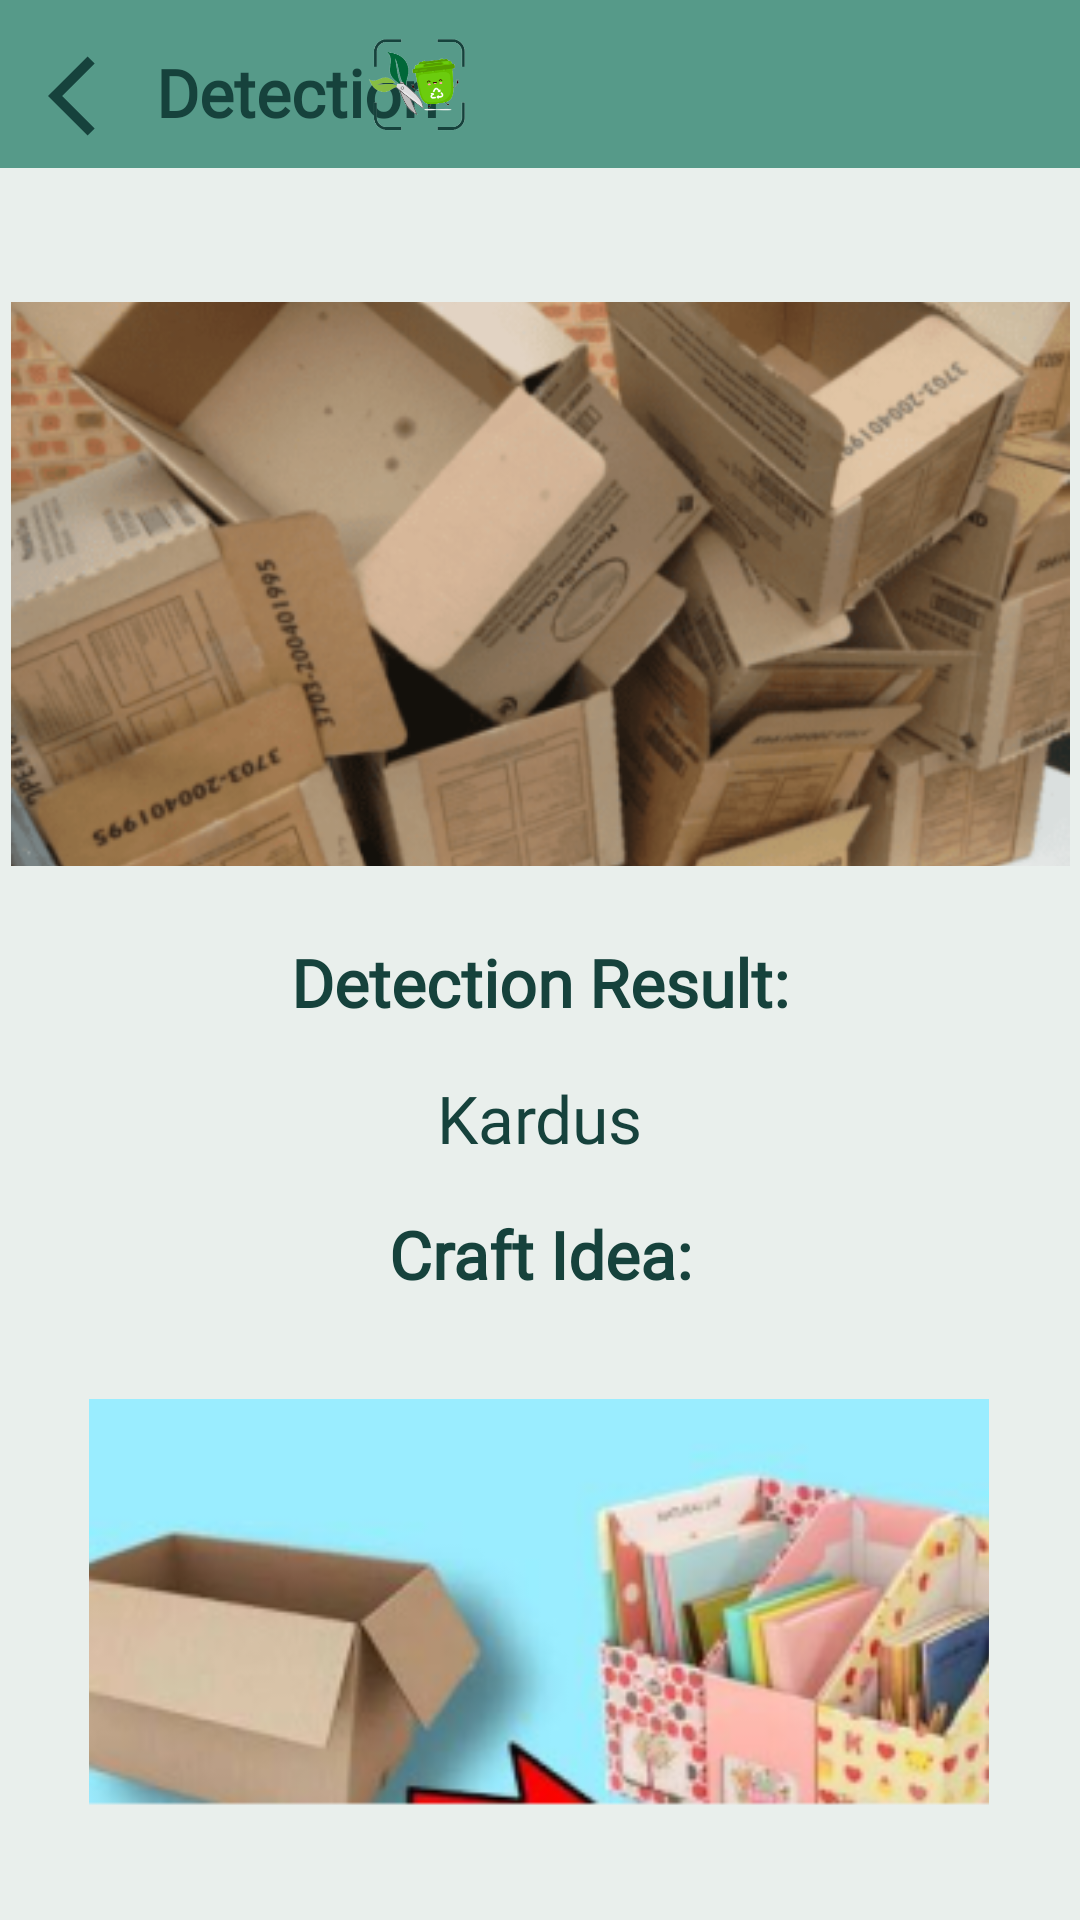

Icons on this 1080 × 1920 Android screen, each with the point to tap as point (x, y):
Back: point (71, 96)
